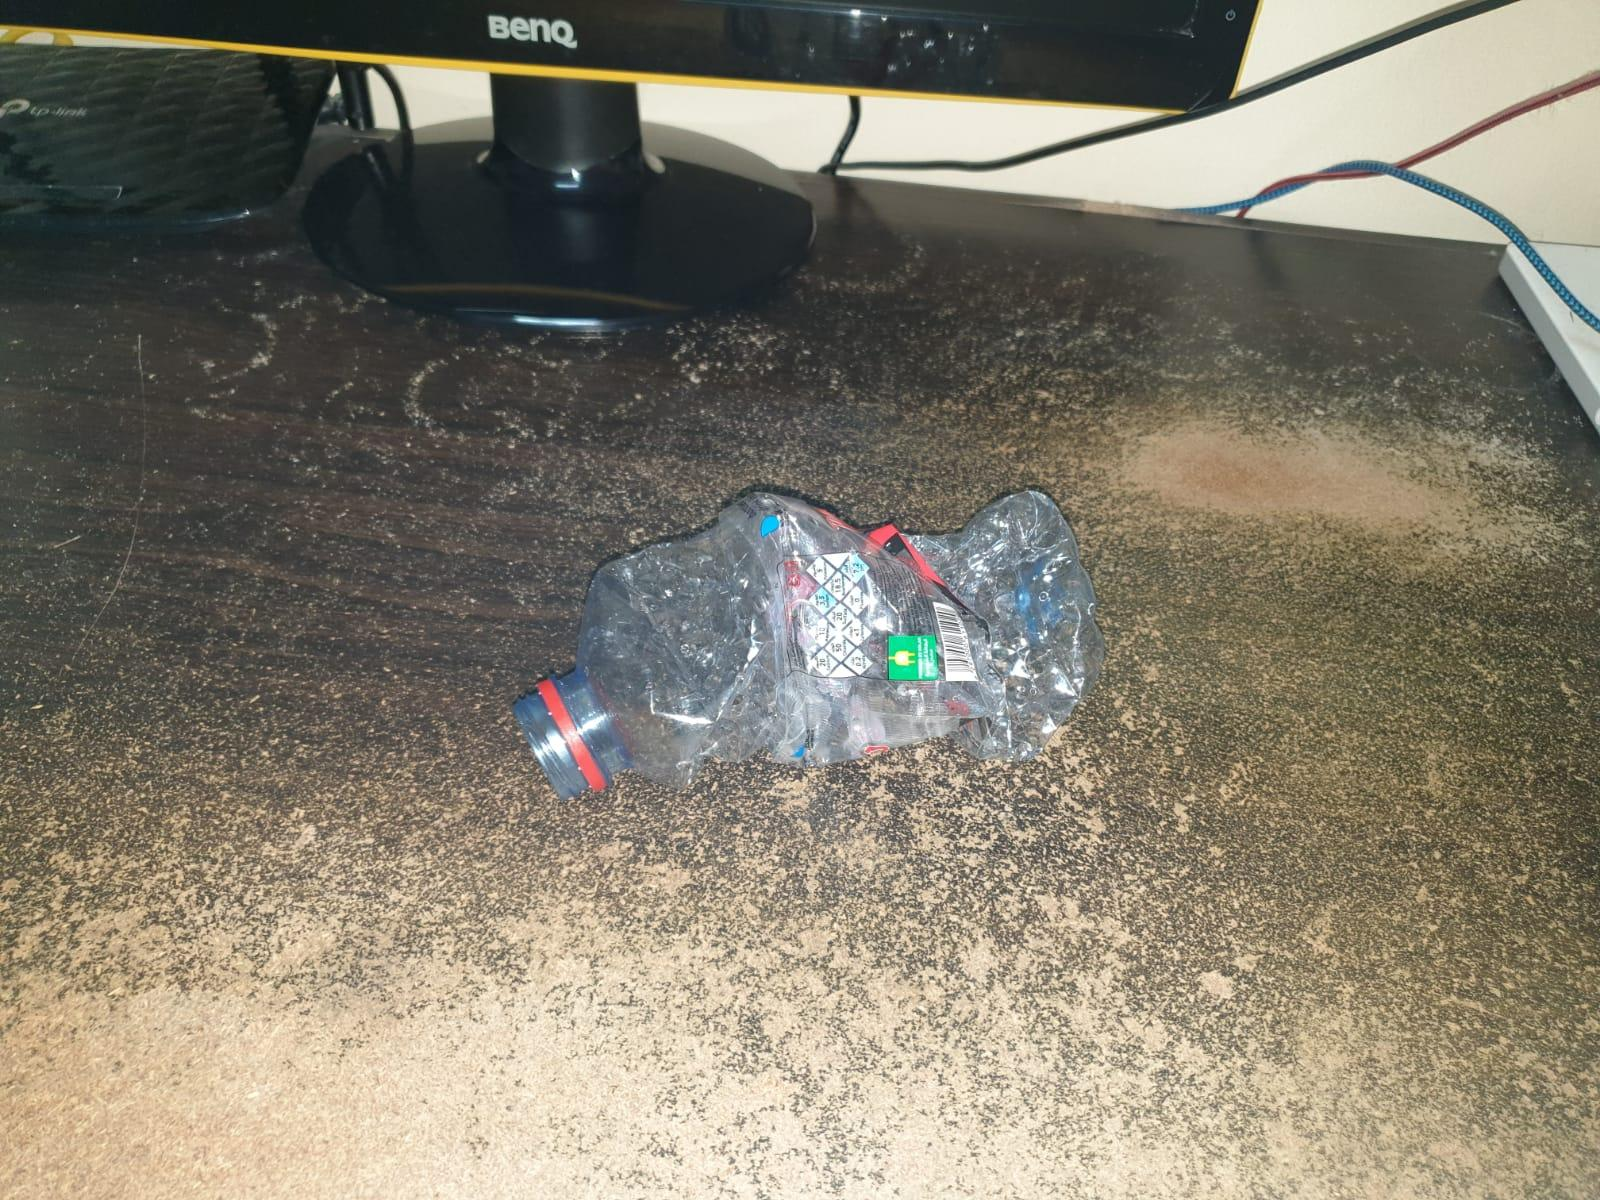bottle: (503, 478, 1106, 824)
